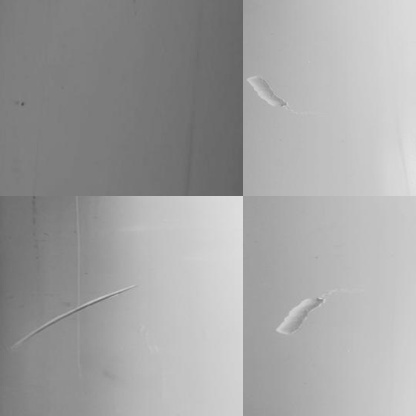sunshang: (16, 284, 142, 349), (273, 292, 328, 341), (245, 74, 291, 114)
